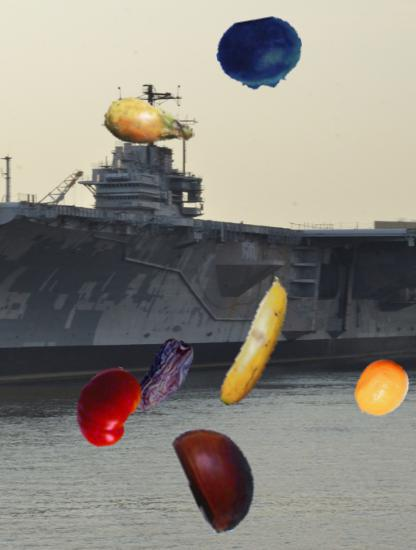Banana: (189, 277, 324, 412)
Cactus: (103, 77, 197, 171)
Chestnut: (164, 421, 276, 533)
Dates: (122, 337, 205, 420)
Huckleberry: (217, 11, 303, 97)
Lemon: (351, 359, 411, 419)
Tomato: (66, 365, 150, 449)
